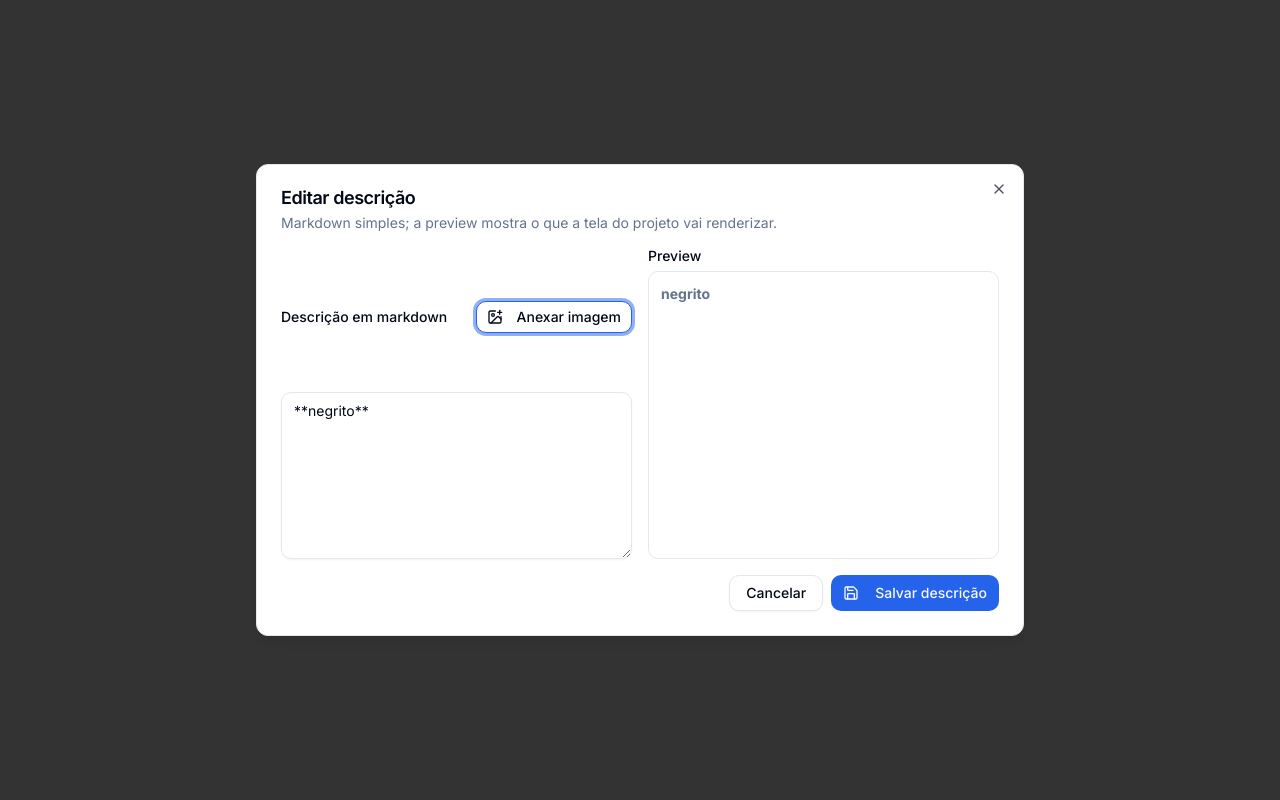
Scenario: dialog de descrição › recusa do servidor chega como aviso com a frase da rota
This screenshot has width=1280, height=800.
Type "x" into the text box labelled "Descrição em markdown" at (456, 476), box [281,392,632,559]
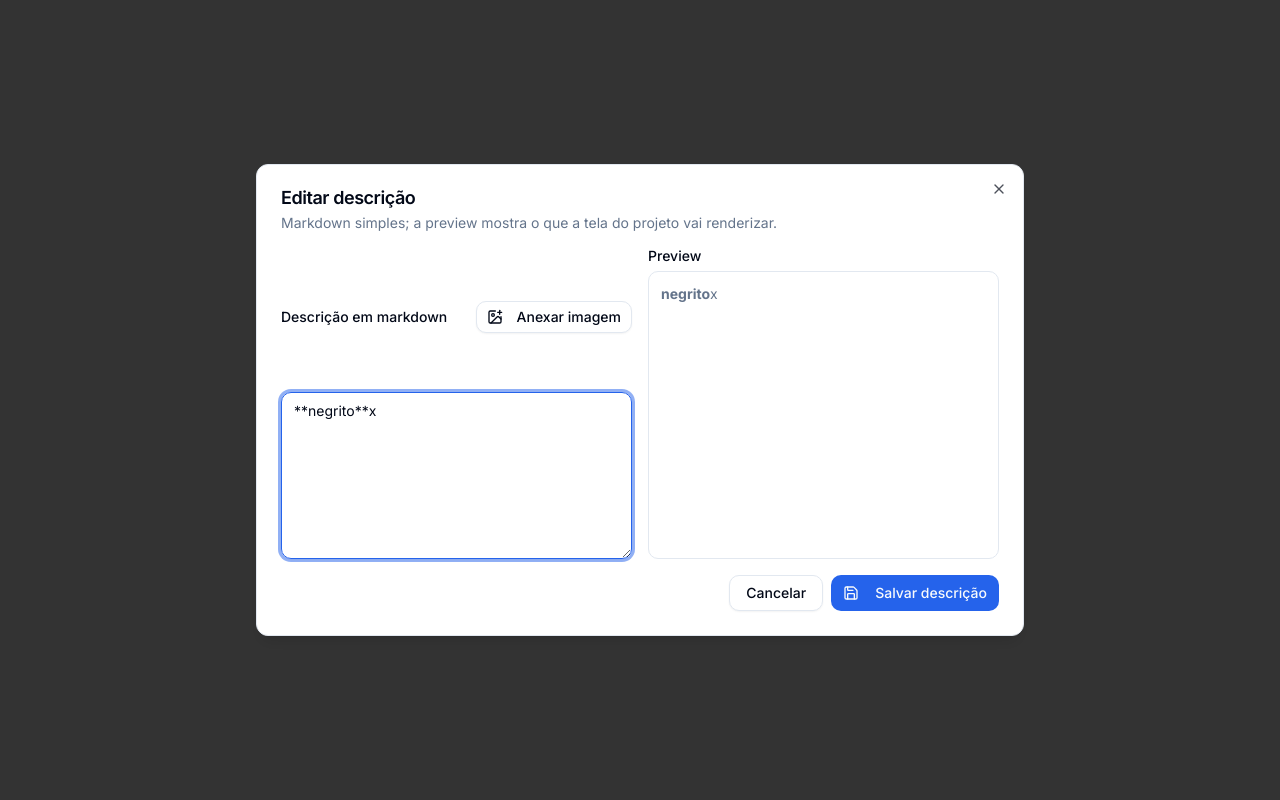
Click the button "Salvar descrição" at (915, 593), box [831,575,999,611]
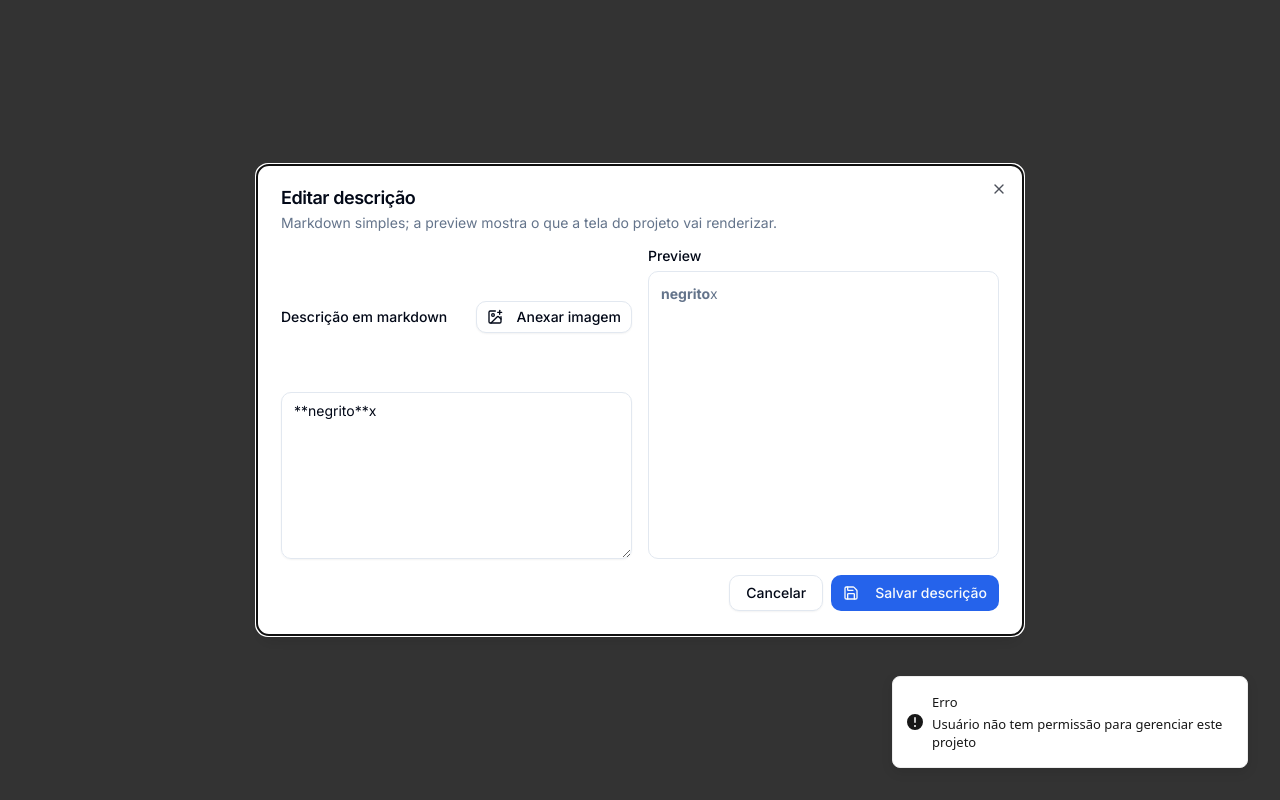
Expected: the text "Usuário não tem permissão para gerenciar este projeto" is shown, [932,715,1231,751]
